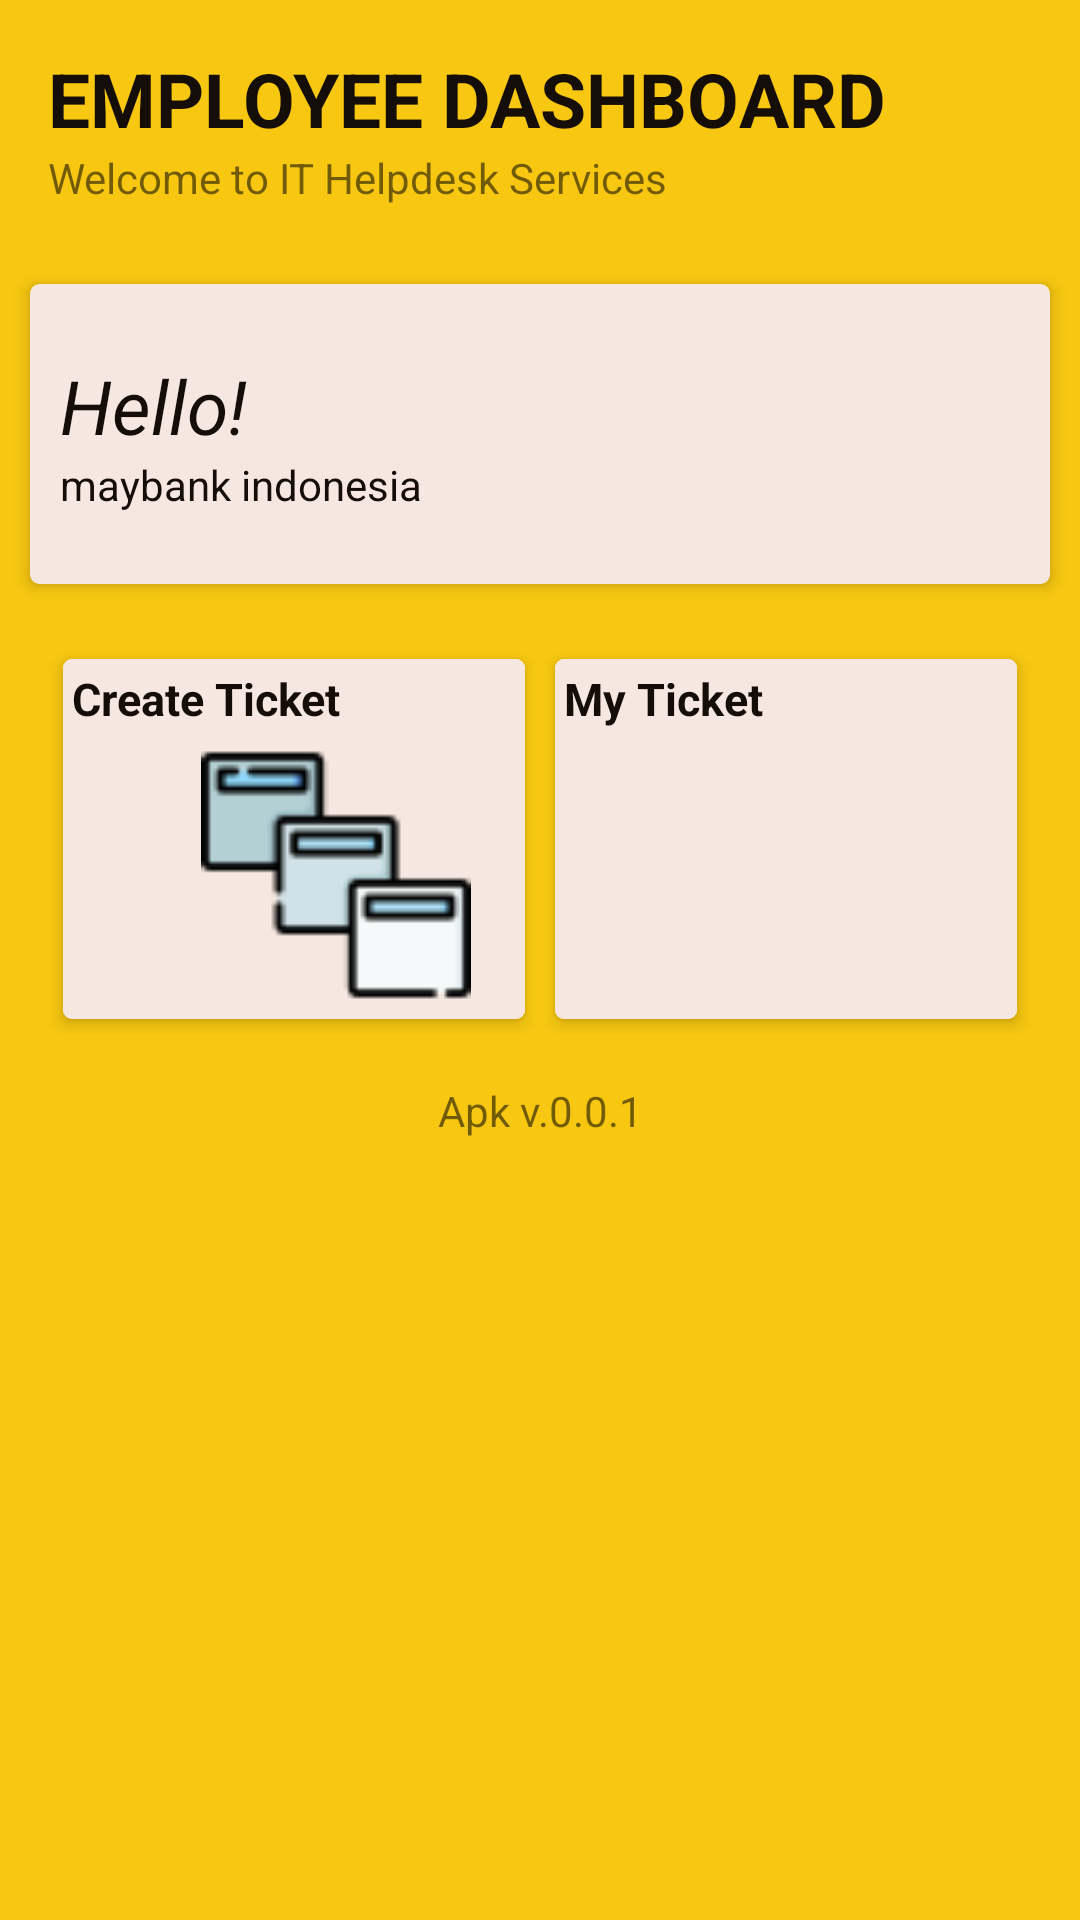

Icon click points for this 1080px×1920px phone screenshot, format (x,y):
queue: (336,875)
